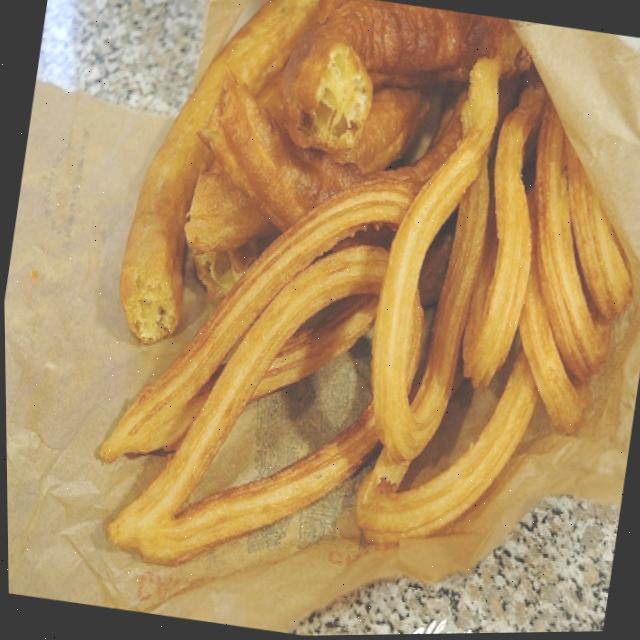炸货点心: (31, 0, 640, 634)
